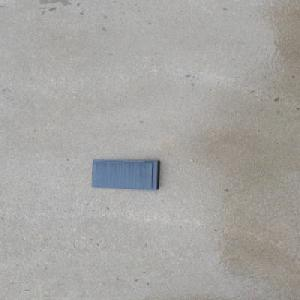PlasticPart: (90, 158, 162, 191)
